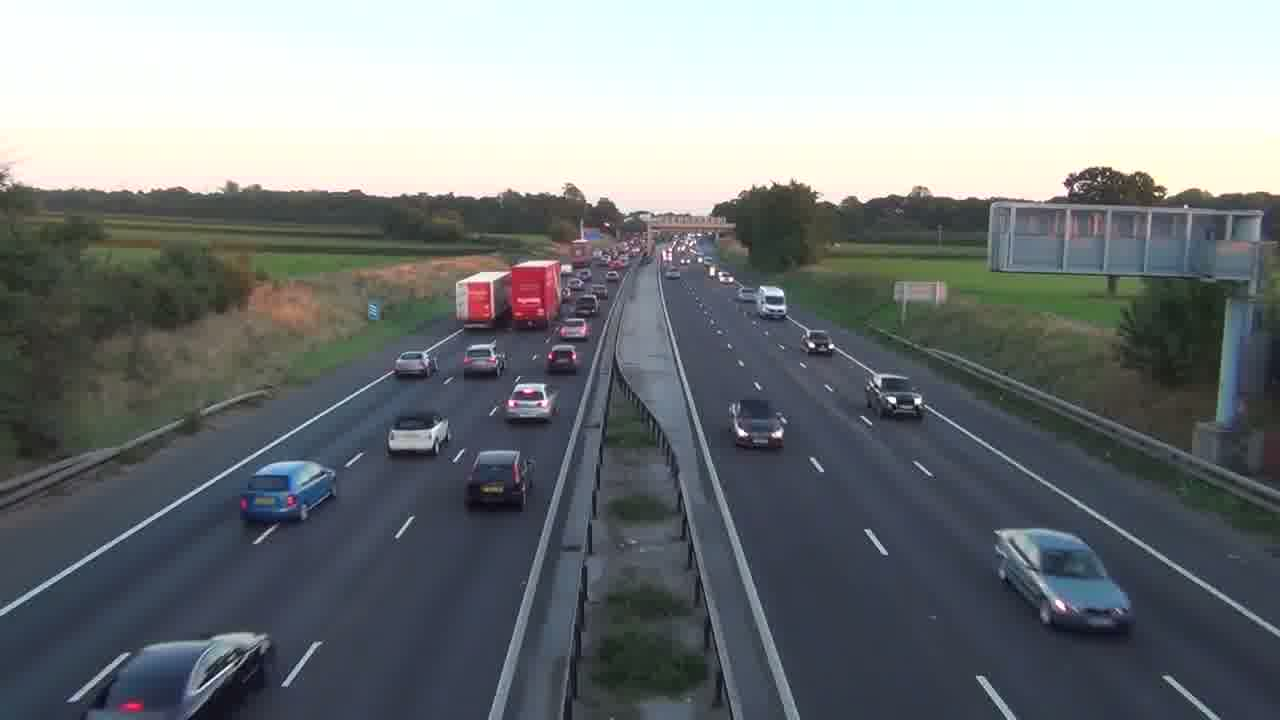car: (74, 631, 273, 717), (992, 526, 1136, 633), (239, 459, 338, 524), (464, 448, 534, 510), (730, 398, 788, 451), (385, 411, 451, 455), (865, 372, 926, 419), (505, 381, 561, 423), (460, 341, 504, 377), (393, 349, 435, 378), (545, 344, 579, 373)
truck: (992, 526, 1136, 633), (511, 260, 561, 330)
